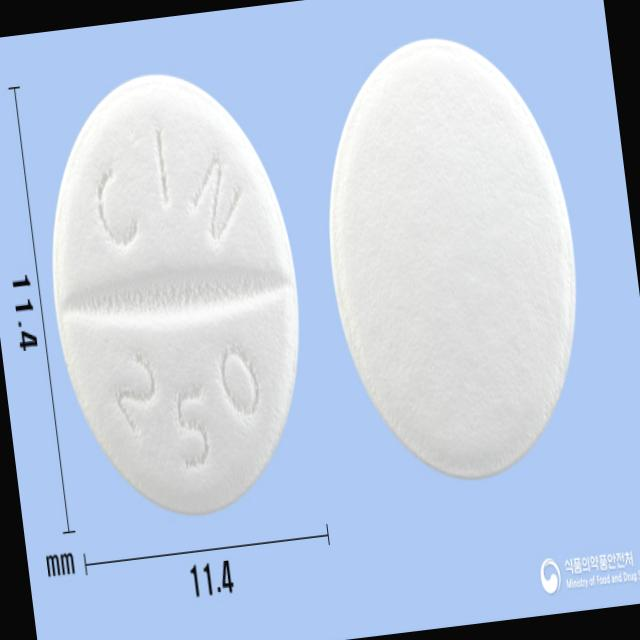CTcin: (26, 55, 327, 536)
